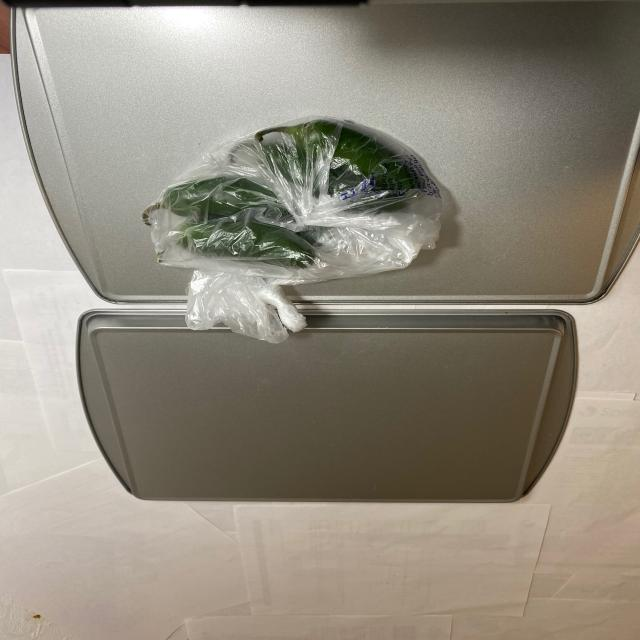chilli: (136, 115, 447, 286)
